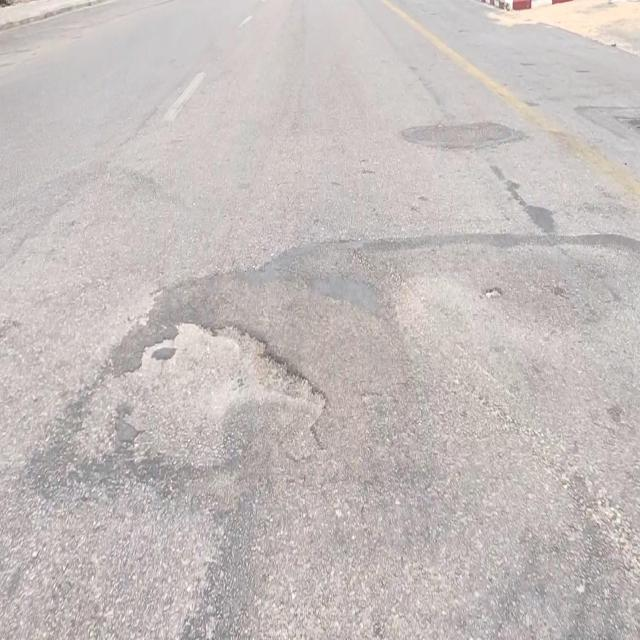Potholes: (75, 318, 329, 473)
